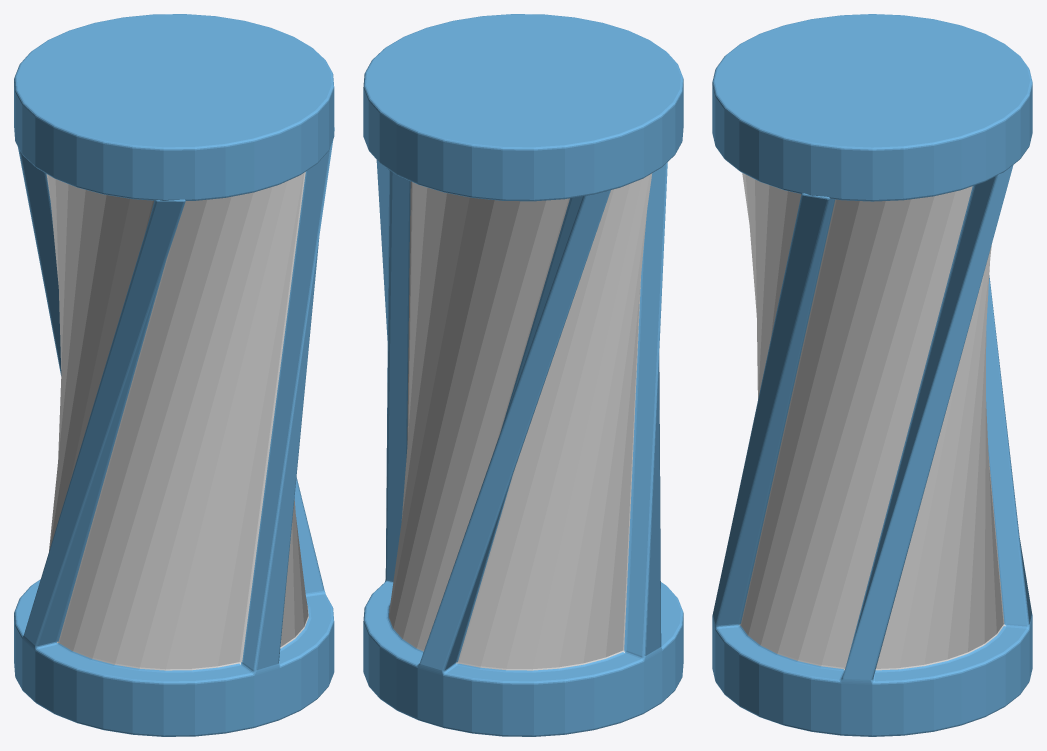
Rendered from virus.fbx.
3 views of the same model, side by side, from view 1: azimuth 30°, elevation 25°; view 2: azimuth 150°, elevation 25°; view 3: azimuth 270°, elevation 25° (orthographic).
Parts seen in each view (by area): view 1: Cylinder; view 2: Cylinder; view 3: Cylinder.
Boxes of the visible parts, <box> form: Cylinder: <box>14,14,334,736</box>; Cylinder: <box>363,14,683,736</box>; Cylinder: <box>712,14,1032,736</box>.
Bounding box in the file's own units: 200 × 405 × 200.
